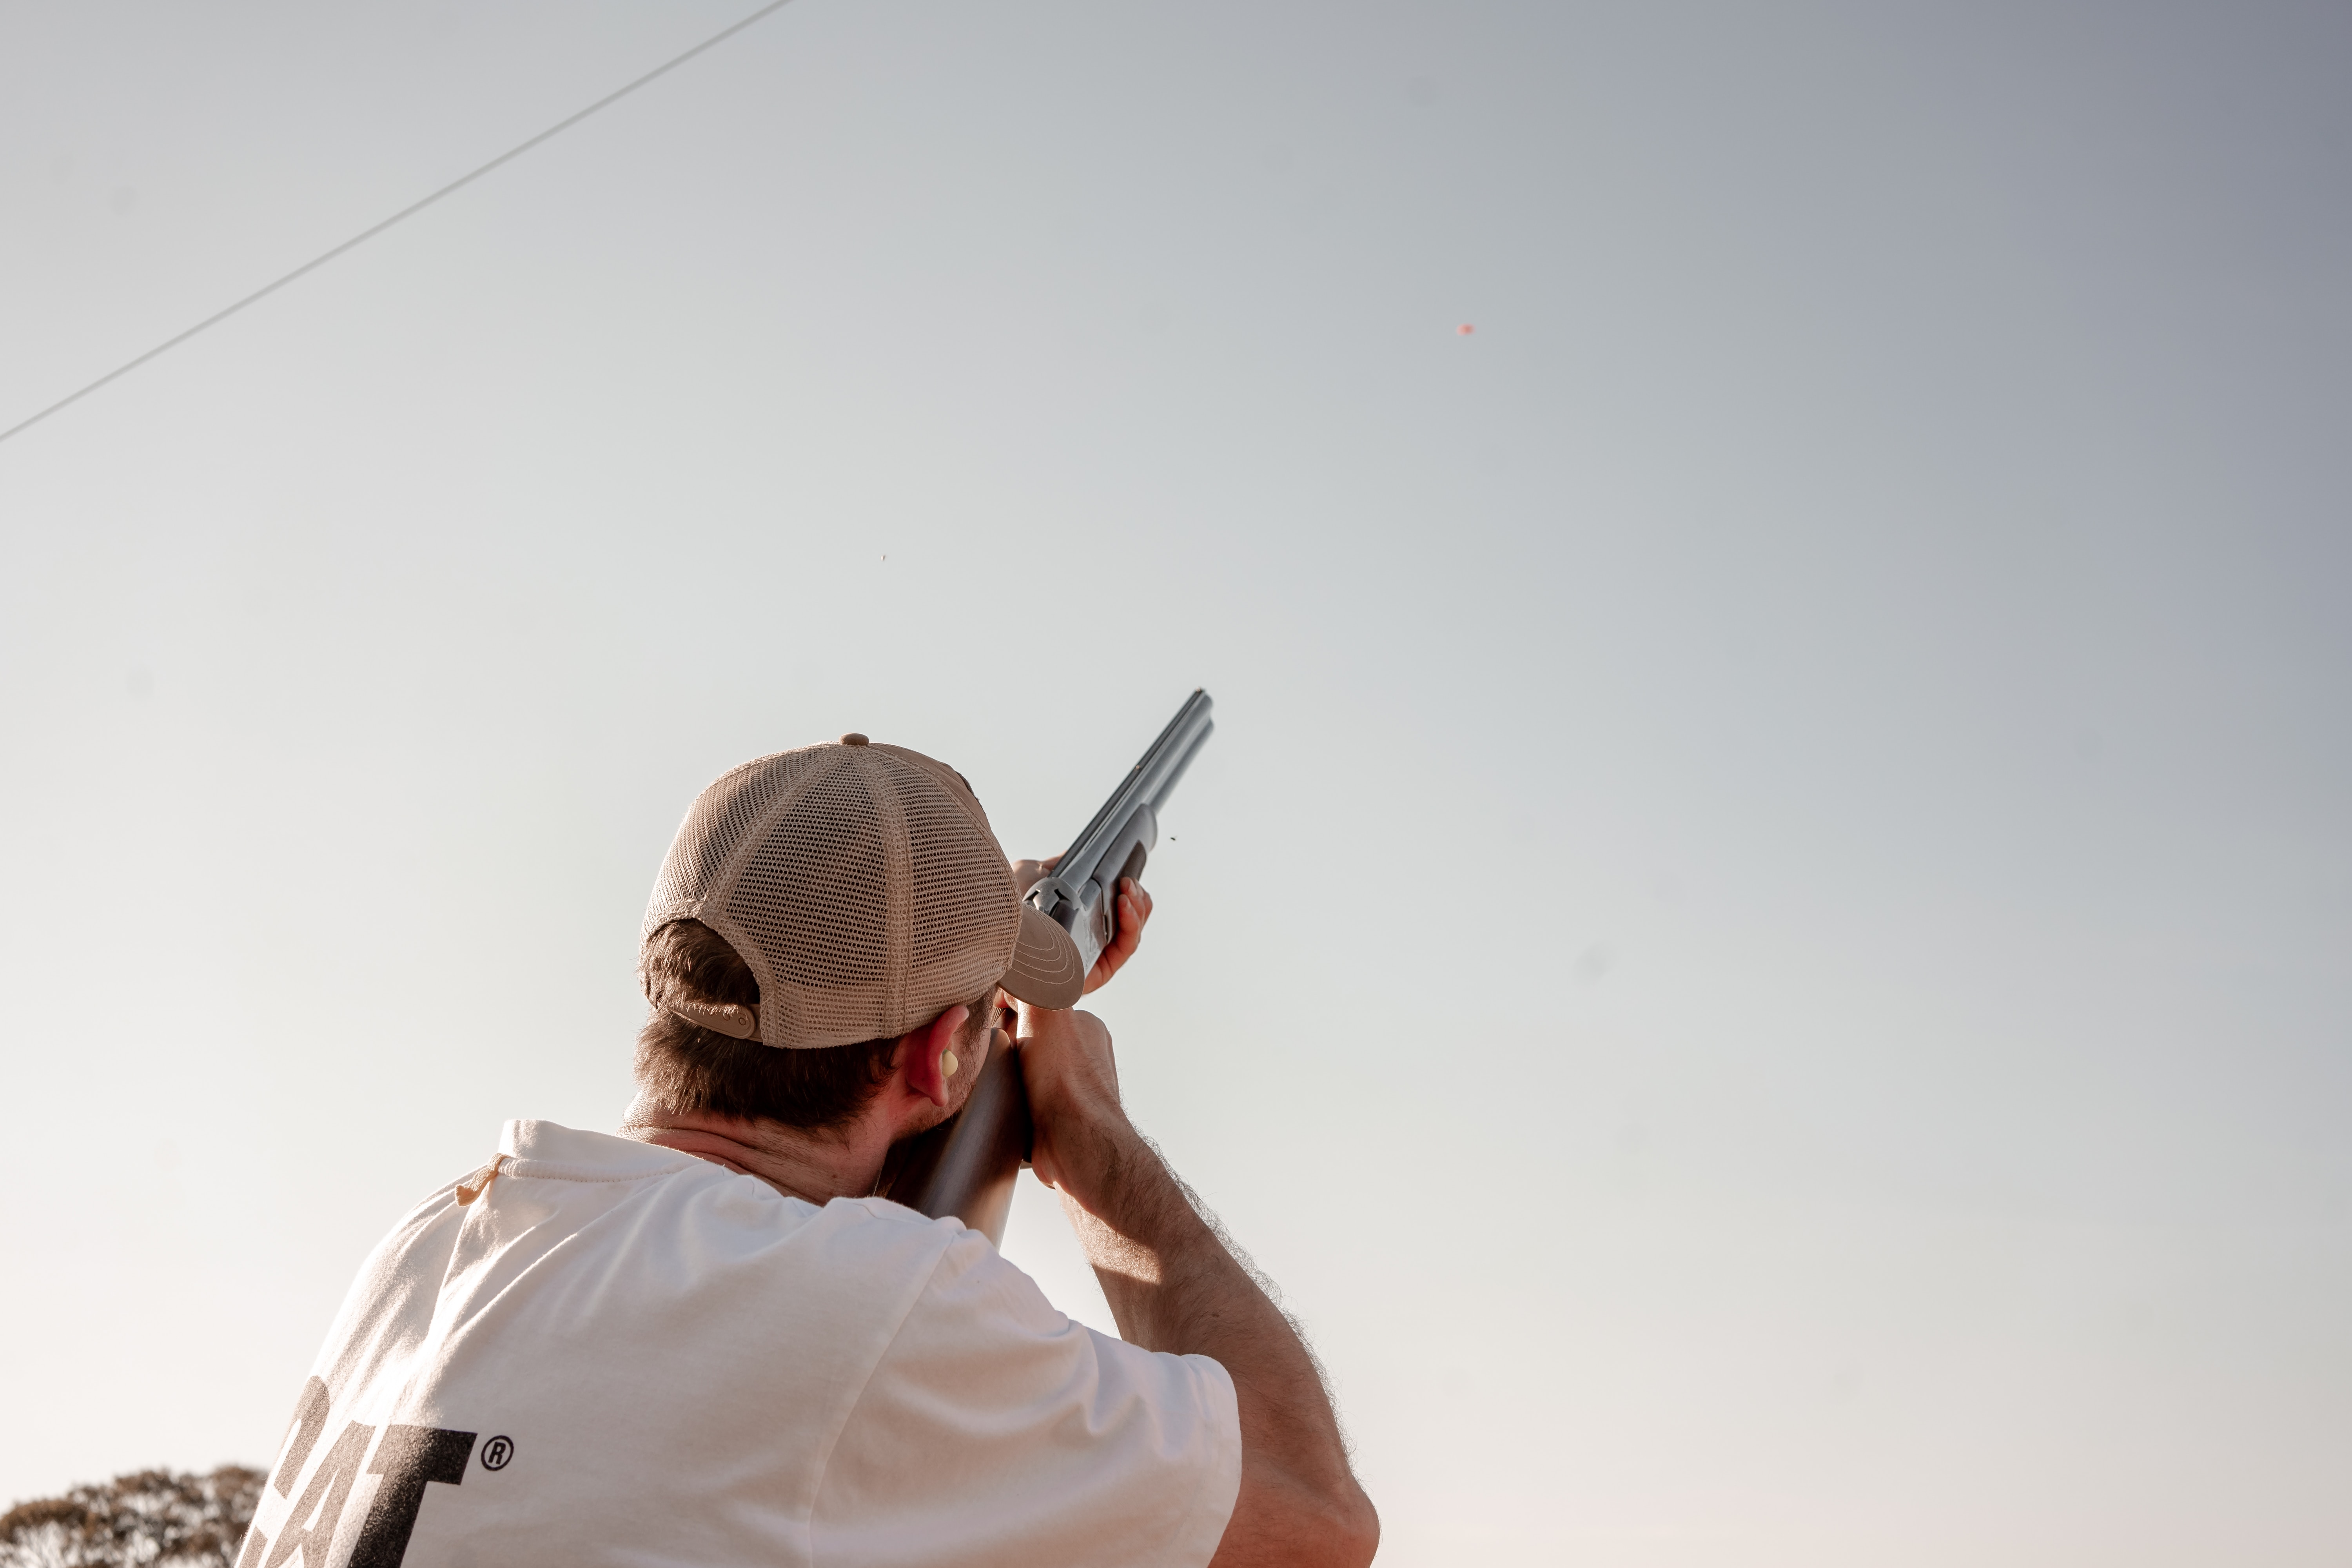gun: (903, 683, 1218, 1265)
